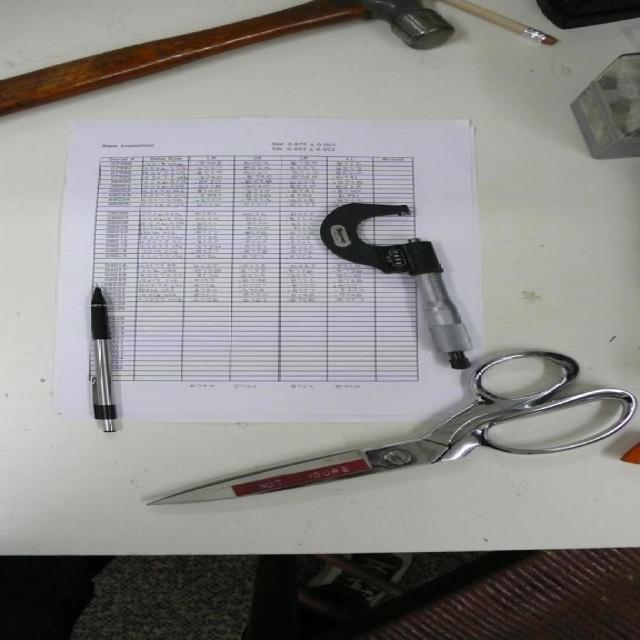scissor: (145, 348, 638, 507)
